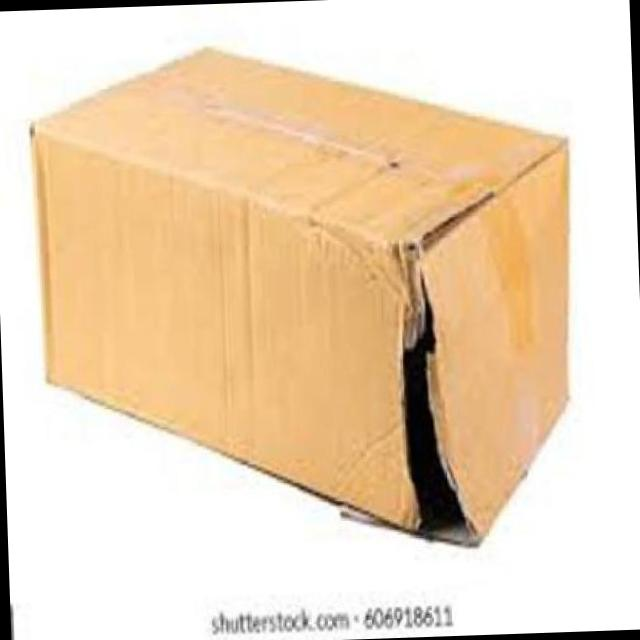box: (29, 45, 568, 551)
crushed: (285, 189, 367, 266)
opened: (356, 245, 510, 547)
